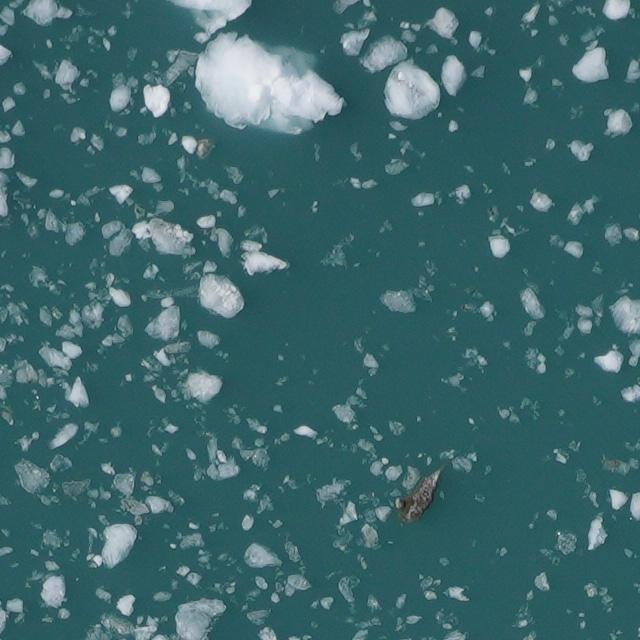seal: (387, 455, 462, 526)
